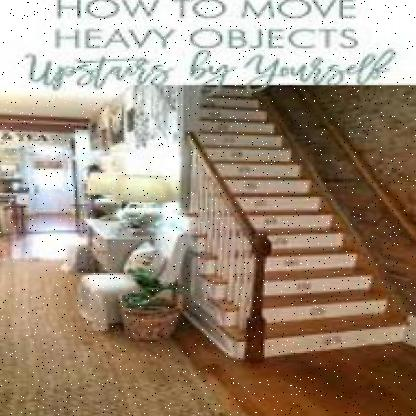stair_up: (228, 176, 404, 340)
